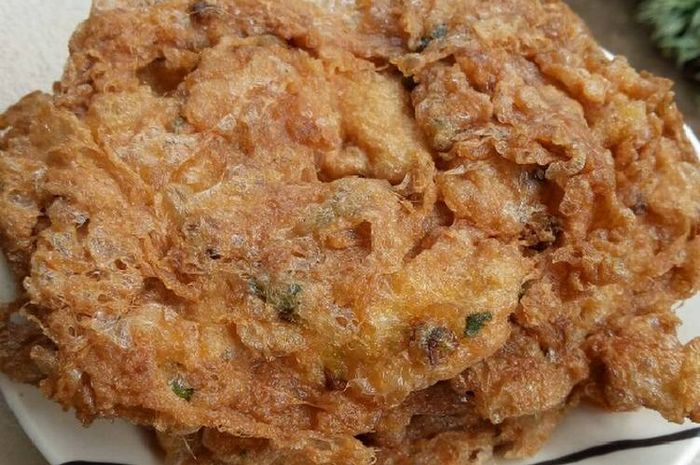Telur: (12, 1, 700, 451)
